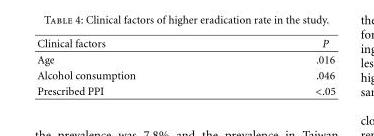table: (36, 37, 334, 96)
table column: (36, 37, 224, 96), (224, 37, 334, 96)
table column header: (36, 37, 334, 51)
table row: (36, 51, 334, 67), (36, 67, 334, 82), (36, 37, 334, 51), (36, 82, 334, 96)
